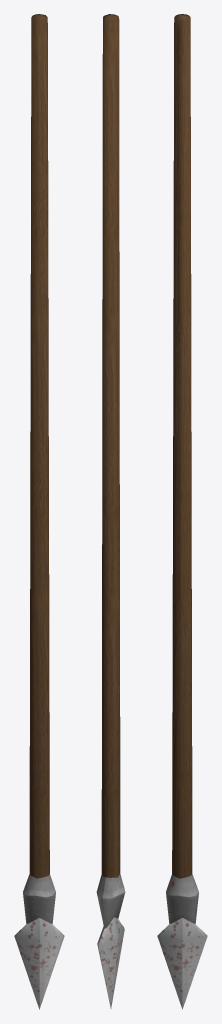
File: Spear.fbx
The picture shows the model from 3 angles, left to right: view 1: azimuth 90°, elevation 25°; view 2: azimuth 150°, elevation 25°; view 3: azimuth 270°, elevation 25°; orthographic projection.
Visible parts, largest first — view 1: SM_Spear; view 2: SM_Spear; view 3: SM_Spear.
Part boxes in pixels (x1,y1,x2,y2): SM_Spear: (14,14,64,1009); SM_Spear: (96,14,125,1008); SM_Spear: (157,14,207,1009).
Bounding box in the file's own units: 0.2052 × 8.41 × 0.3871.
